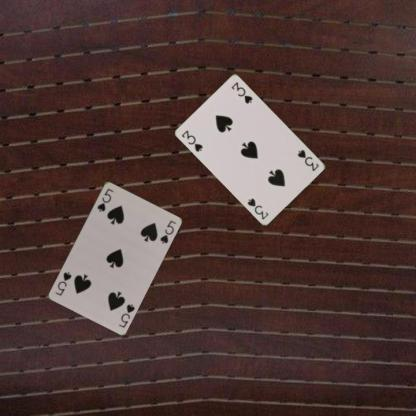3s: (295, 147, 321, 172), (179, 128, 204, 153)
5s: (116, 301, 136, 329), (95, 186, 114, 212)
